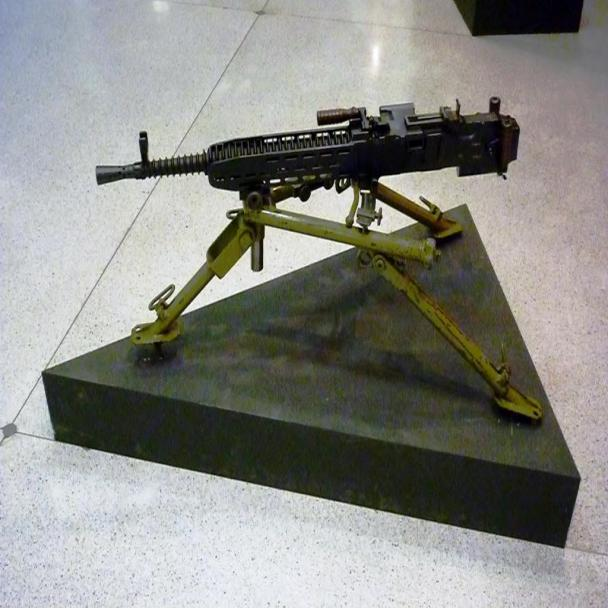Gun: (90, 87, 526, 220)
